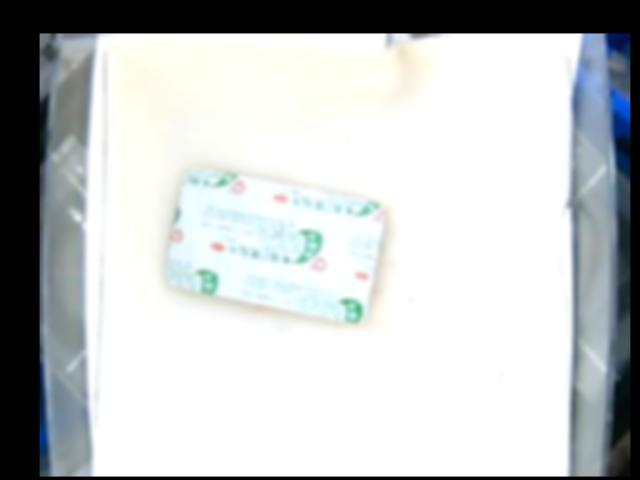Medicine: (166, 166, 384, 327)
